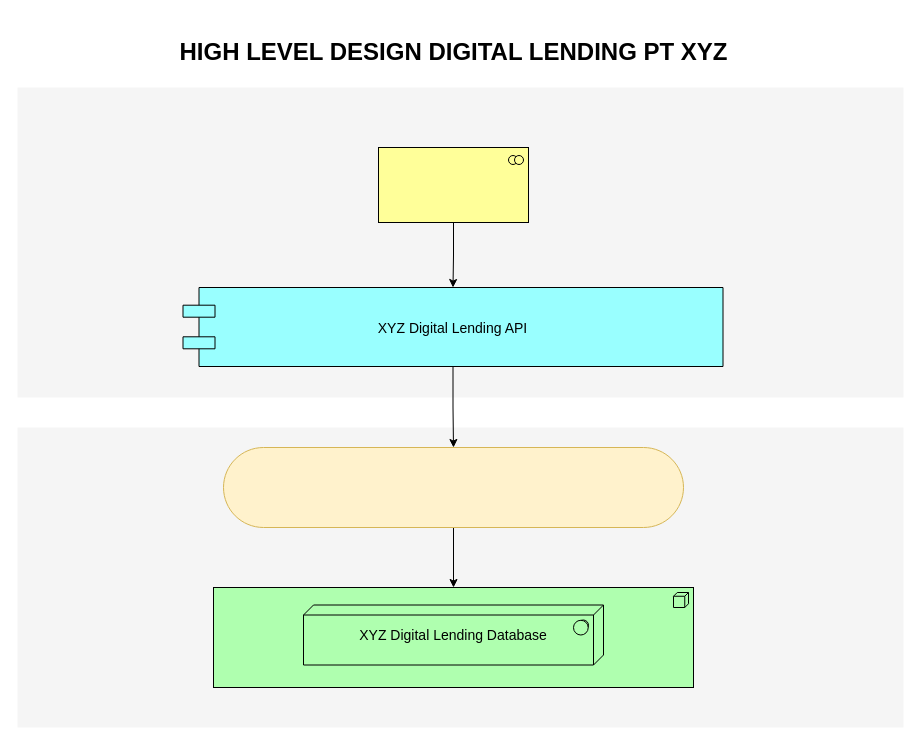
Some shapes in this 920 by 744 pixel diagram are drawn without their labels. Here are the shapes that lost their labels. From the top down, the box of each, then its label:
(378, 146, 528, 222): XYZ Digital Lending Mobile Apps
(222, 446, 684, 528): XYZ Digital Lending Application Server
